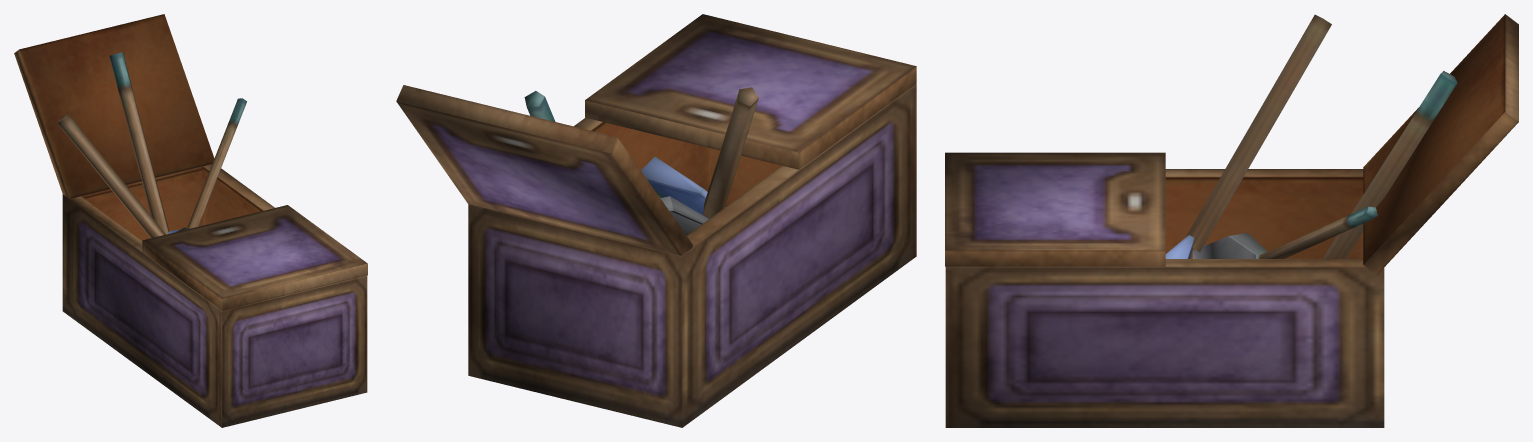
Rendered from a_SWIwb02.glb.
The picture shows the model from 3 angles, left to right: view 1: azimuth 30°, elevation 25°; view 2: azimuth 150°, elevation 25°; view 3: azimuth 270°, elevation 25°; orthographic projection. The views are drawn at different scales.
Visible parts, largest first — view 1: a_SWIwb02; view 2: a_SWIwb02; view 3: a_SWIwb02.
Part boxes in pixels (x1=…): a_SWIwb02: x1=14, y1=14, x2=367, y2=427; a_SWIwb02: x1=396, y1=14, x2=916, y2=427; a_SWIwb02: x1=945, y1=14, x2=1518, y2=427.
Size of the model in its own units: 0.5529 by 0.5883 by 0.967.
Materials: 1 (1 with a texture image).
